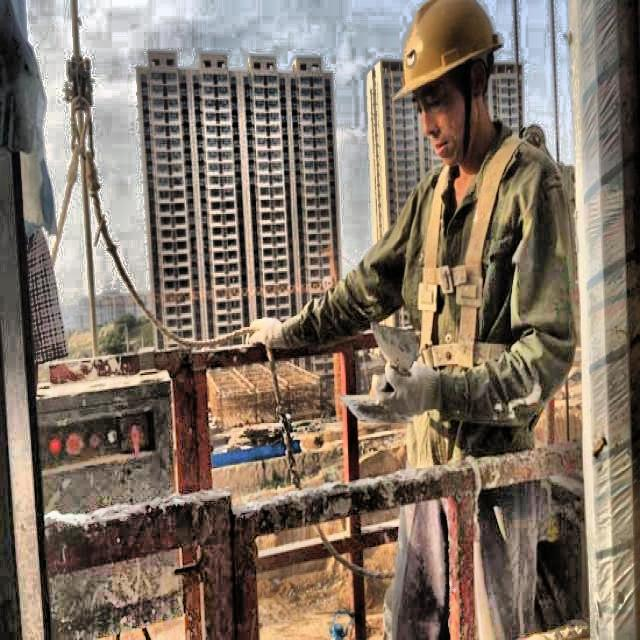person: (337, 9, 582, 640)
